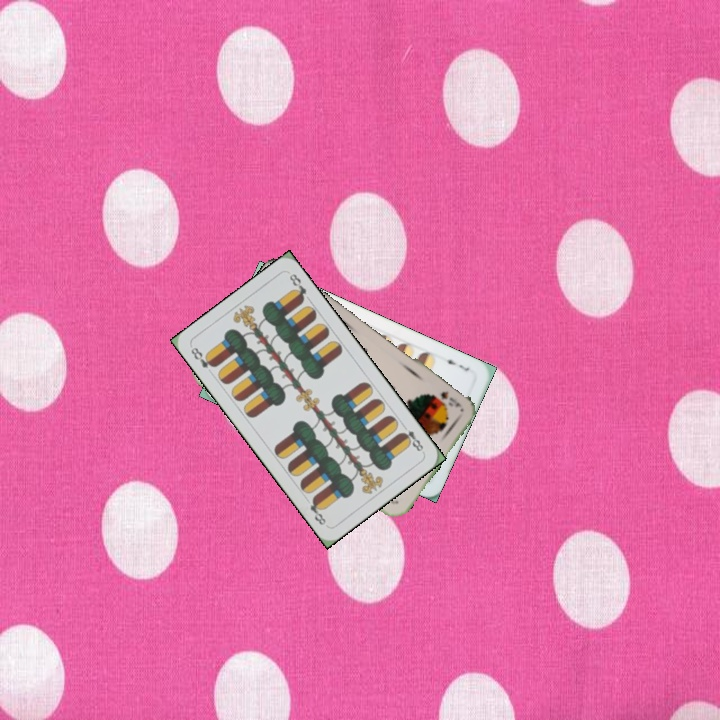E7: (439, 353, 472, 374)
E8: (397, 420, 426, 454), (187, 343, 218, 371)
SO: (437, 387, 463, 410)
